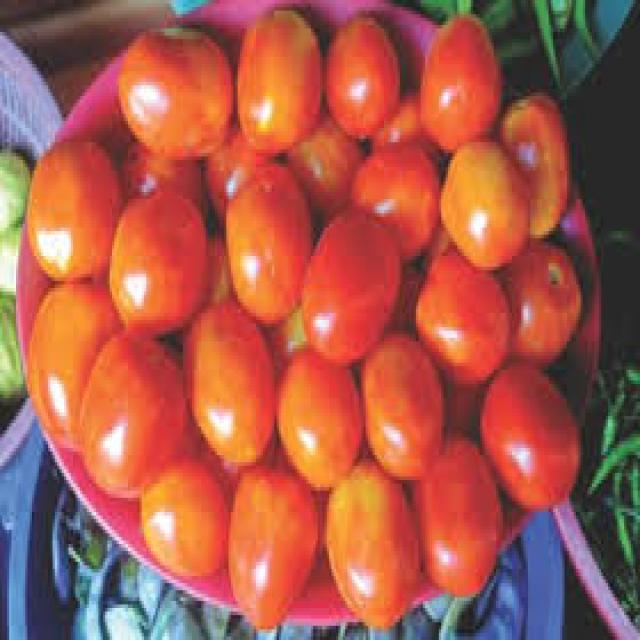Fresh_tomato: (115, 21, 241, 162), (306, 202, 408, 358), (180, 333, 280, 476), (414, 269, 524, 382), (426, 446, 513, 588), (115, 211, 219, 326), (236, 183, 320, 323), (240, 7, 324, 142), (232, 480, 312, 618), (282, 354, 364, 488), (444, 156, 531, 279), (350, 158, 452, 260), (481, 395, 579, 498), (423, 12, 502, 139), (508, 98, 578, 236), (36, 154, 110, 283), (363, 347, 448, 459), (324, 496, 418, 596), (35, 294, 99, 433), (328, 8, 399, 130), (146, 464, 225, 570)
